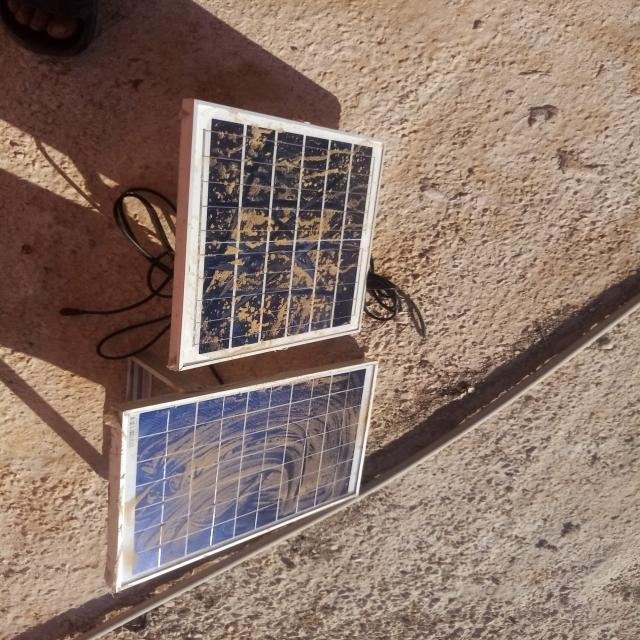faulty: (115, 360, 378, 592), (176, 101, 387, 369)
